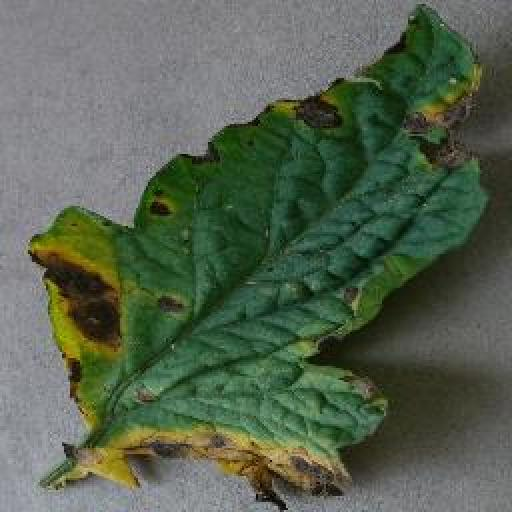Early Blight: (33, 5, 492, 512)
